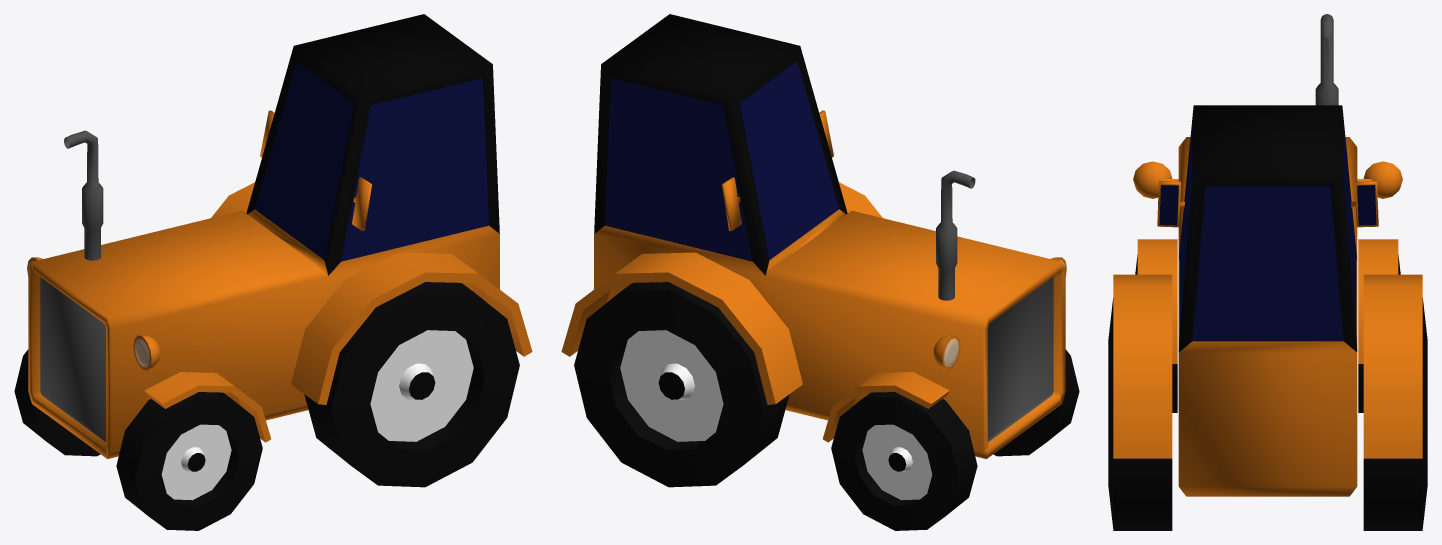
The model's file is tractor.glb.
3 views of the same model, side by side, from view 1: azimuth 30°, elevation 25°; view 2: azimuth 150°, elevation 25°; view 3: azimuth 270°, elevation 25° (orthographic). The views are drawn at different scales.
Visible parts, largest first — view 1: Cube_1, Cylinder_2, Circle_3, Plane_4, Sphere_5; view 2: Cube_1, Cylinder_2, Circle_3, Plane_4, Sphere_5; view 3: Cube_1, Cylinder_2, Plane_4, Sphere_5, Circle_3.
Boxes of the visible parts, x1,y1,x2,y2 form: Cube_1: [28, 14, 499, 458]; Cylinder_2: [14, 182, 532, 530]; Circle_3: [64, 130, 103, 260]; Plane_4: [260, 110, 372, 230]; Sphere_5: [27, 257, 160, 370]; Cube_1: [594, 14, 1065, 458]; Cylinder_2: [561, 182, 1079, 530]; Circle_3: [936, 170, 975, 300]; Plane_4: [721, 110, 833, 230]; Sphere_5: [933, 257, 1066, 370]; Cube_1: [1178, 105, 1357, 496]; Cylinder_2: [1108, 239, 1427, 530]; Plane_4: [1157, 181, 1378, 227]; Sphere_5: [1133, 161, 1402, 198]; Circle_3: [1315, 14, 1338, 105].
Size of the model in its own units: 5.48 by 4.95 by 3.57.
